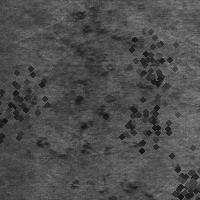rolled-in_scale: (58, 26, 129, 192), (93, 66, 191, 164), (111, 23, 189, 101), (0, 61, 57, 149), (155, 147, 200, 200)
